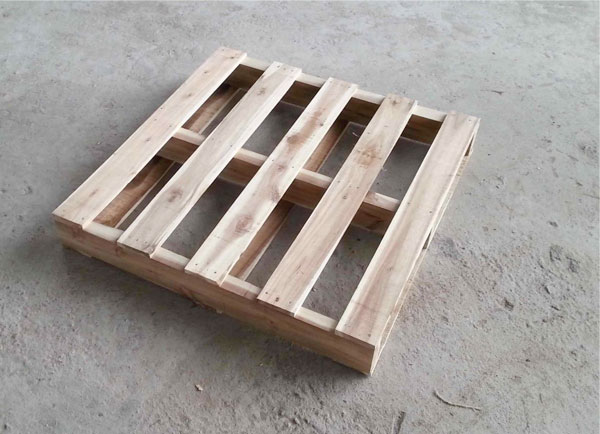pallet: (26, 13, 487, 384)
